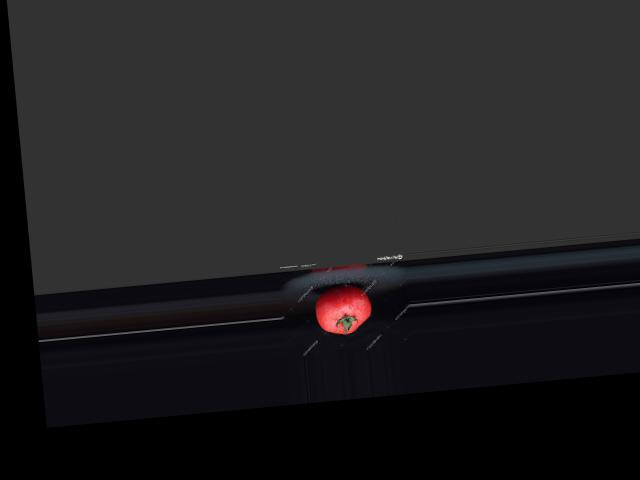tomato: (312, 283, 373, 337)
